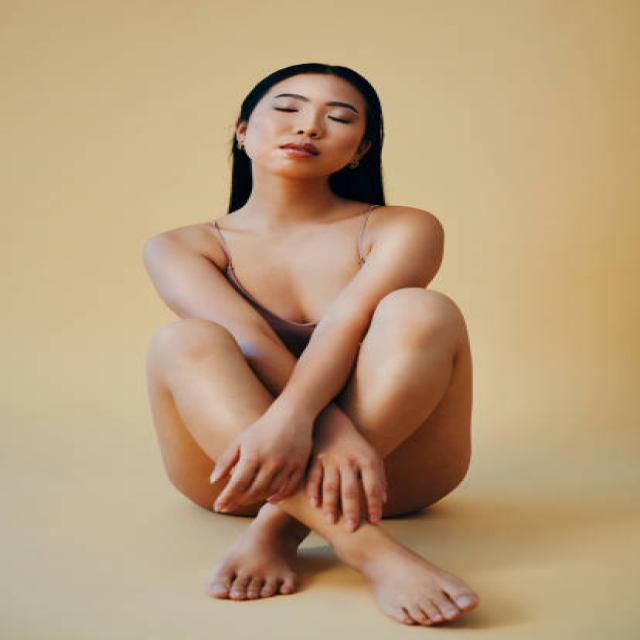Edited images: (113, 50, 555, 634)
